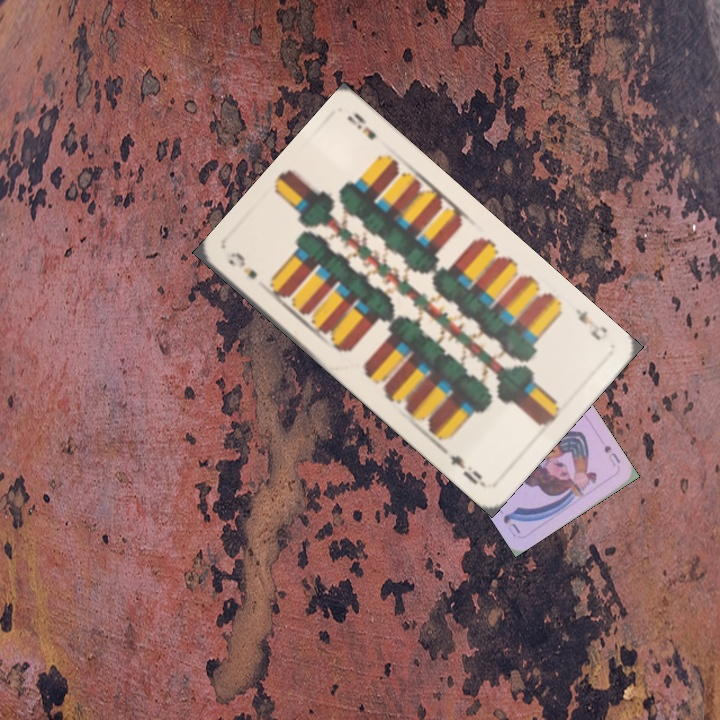E9: (571, 304, 610, 343), (224, 248, 260, 282)
SU: (600, 441, 623, 469)
